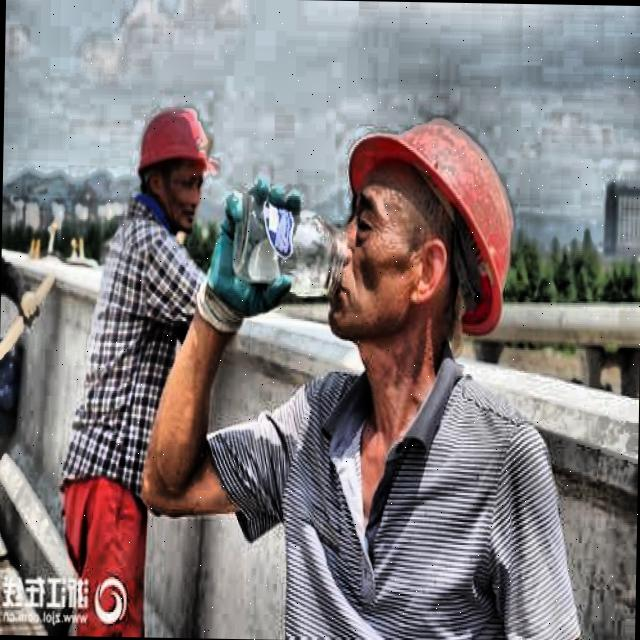helmet: (318, 89, 531, 388), (131, 97, 218, 229)
